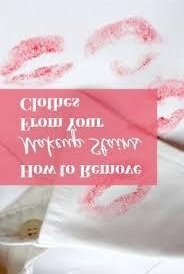lipstick: (82, 10, 168, 61), (3, 33, 72, 87), (91, 185, 154, 221), (104, 41, 160, 76), (157, 106, 183, 134), (79, 182, 116, 201), (161, 78, 184, 99)
